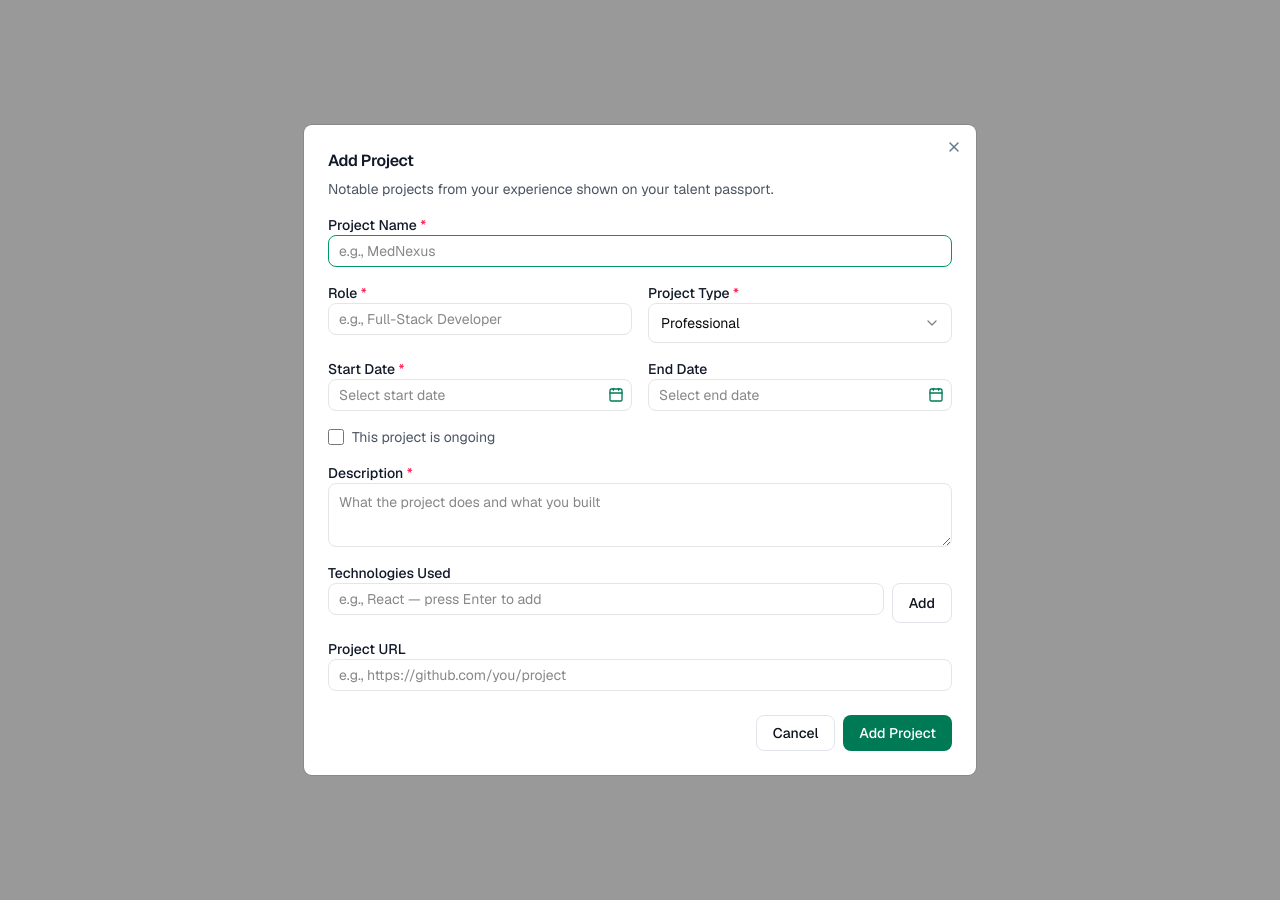
EditProjectDialog › validates invalid URL format
Type "Test Project" into the field labelled "Project Name *".
click(640, 251); type("Test Project")  # box [328,235,952,267]
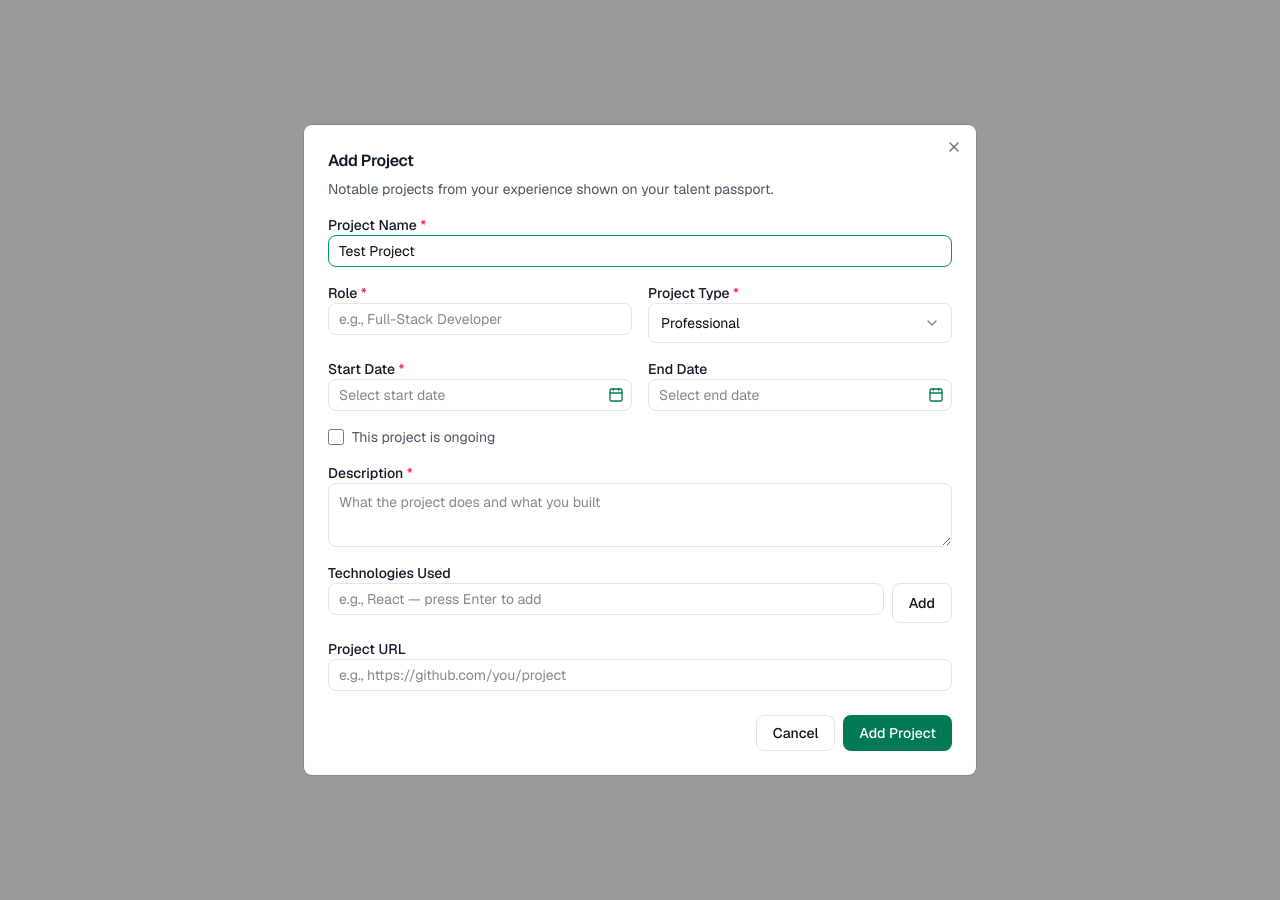
Type "Developer" into the field labelled "Role *".
click(480, 319); type("Developer")  # box [328,303,632,335]
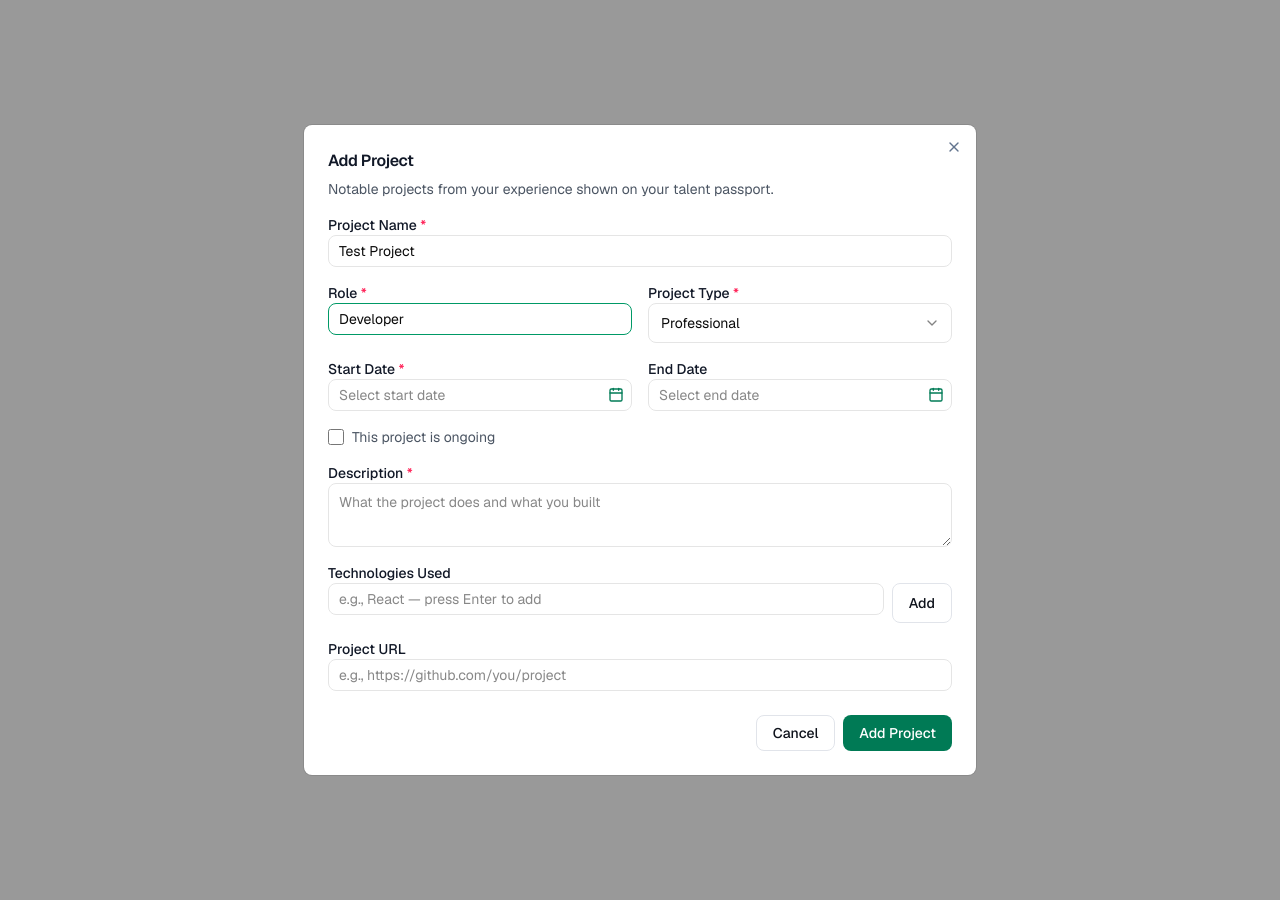
Type "Jan 2023" into the field labelled "Start Date *".
click(480, 395); type("Jan 2023")  # box [328,379,632,411]
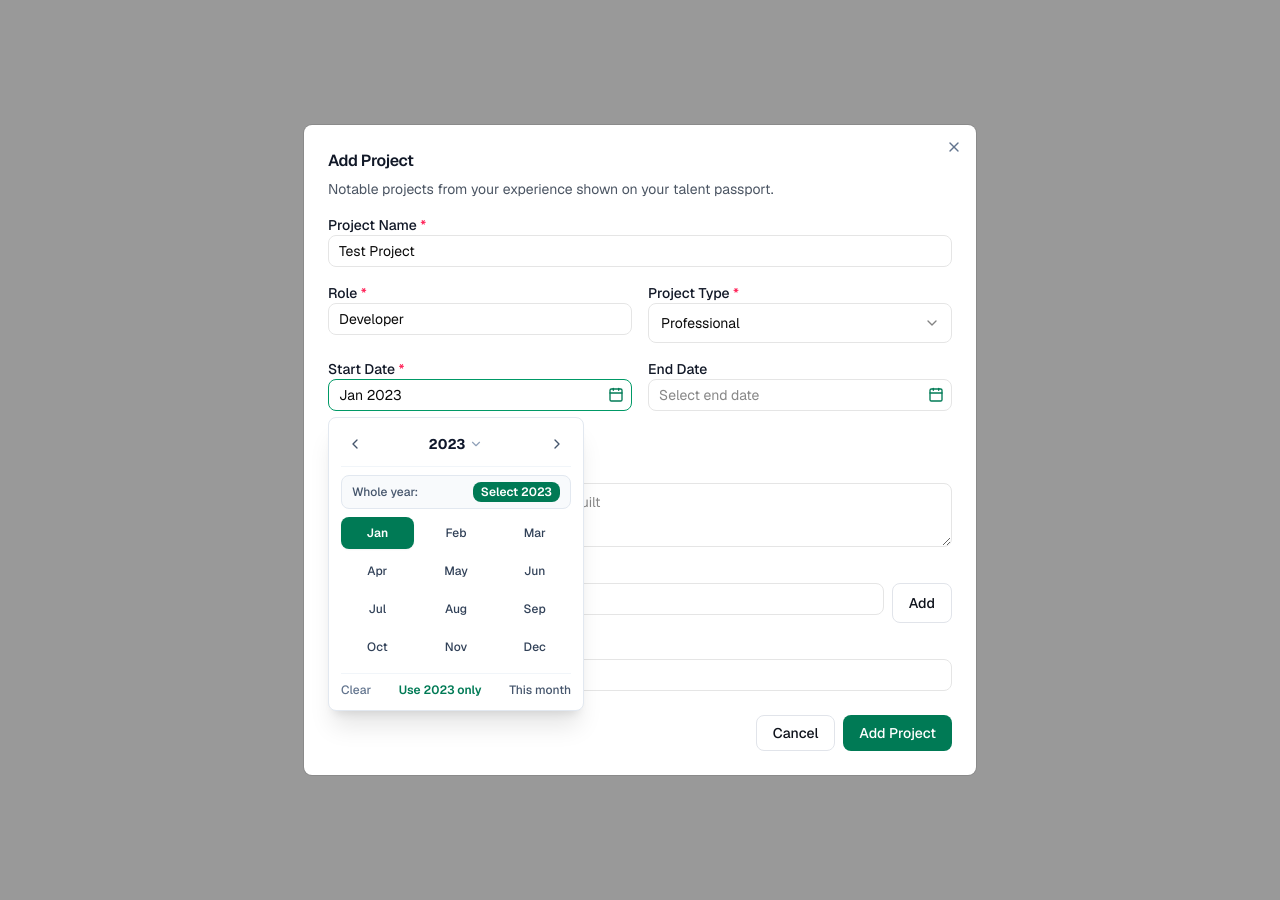
Type "Project description" into the text box labelled "Description *".
click(640, 515); type("Project description")  # box [328,483,952,547]
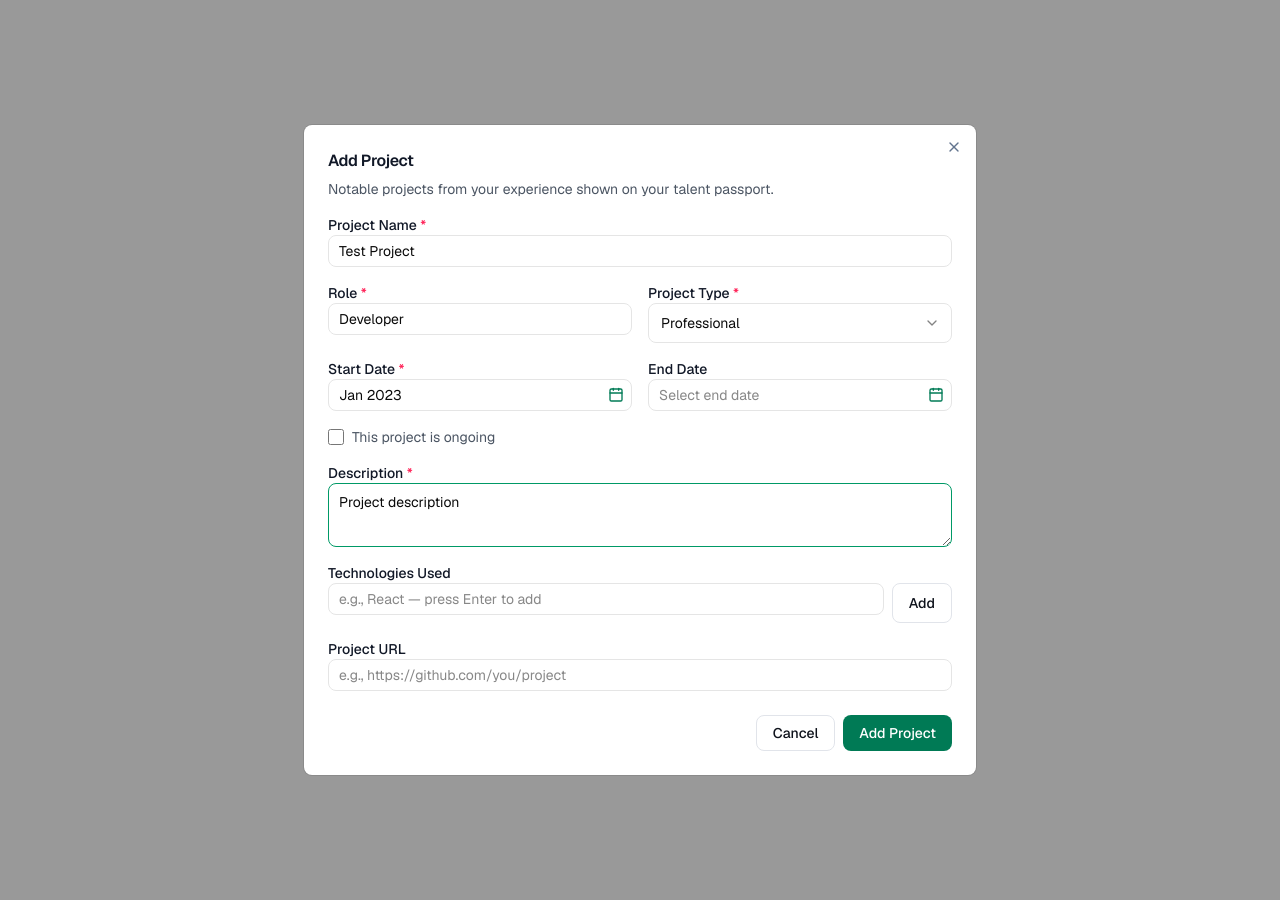
Type "ftp://example.com/files" into the field labelled "Project URL".
click(640, 675); type("ftp://example.com/files")  # box [328,659,952,691]
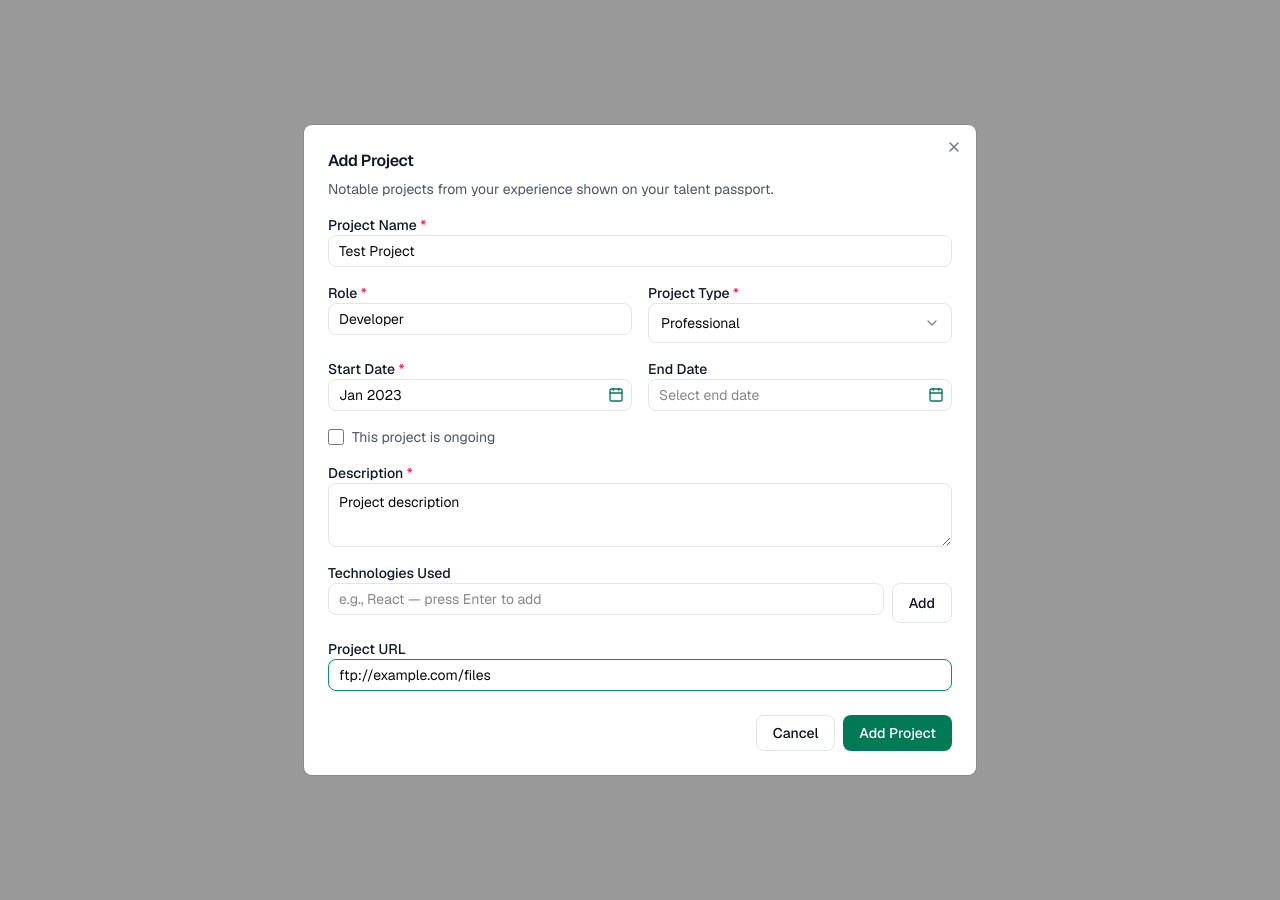
Click the button "Add Project".
click(898, 733)  # box [843,715,952,751]
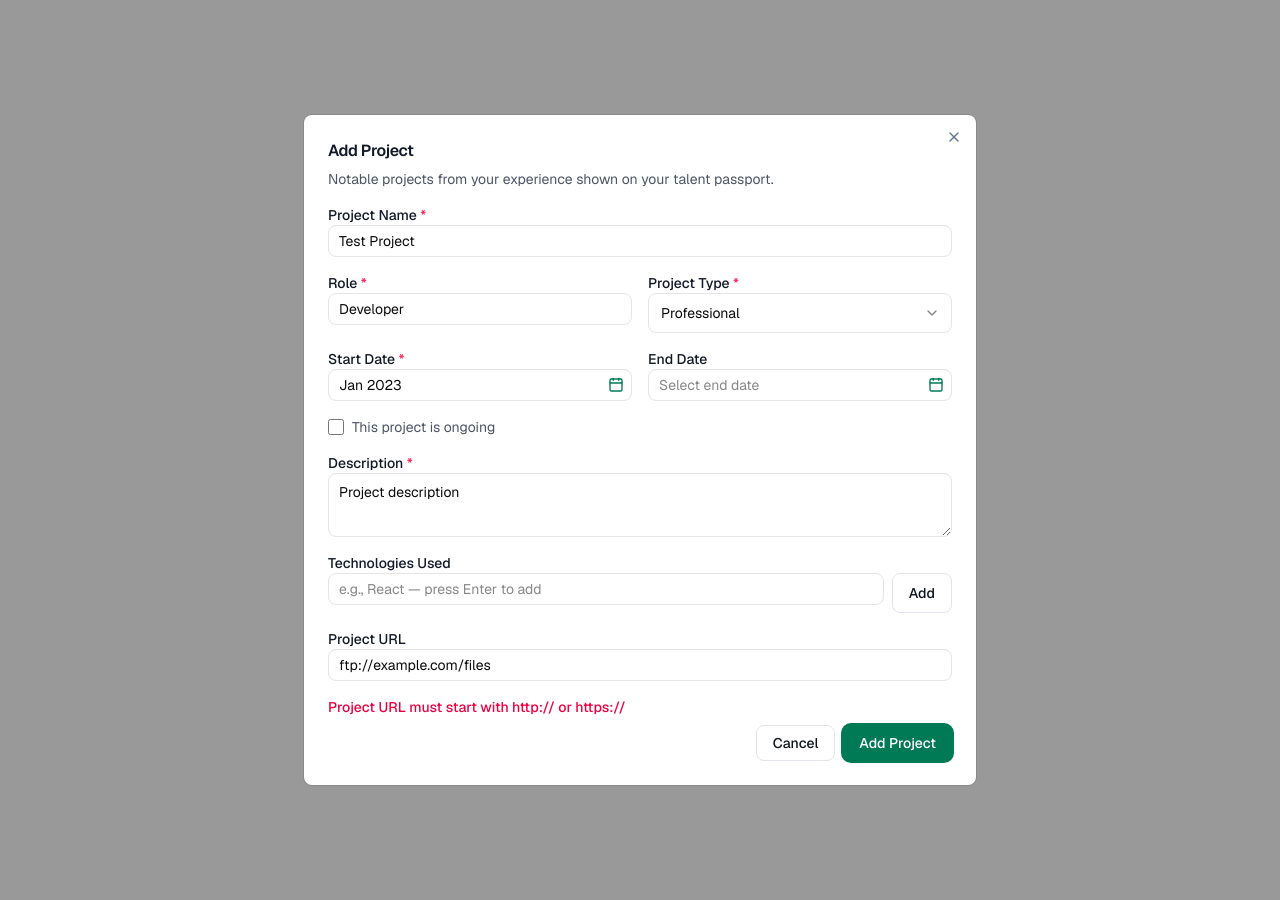
Now the message reads "Project URL must start with http:// or https://", box [328,698,626,716]
